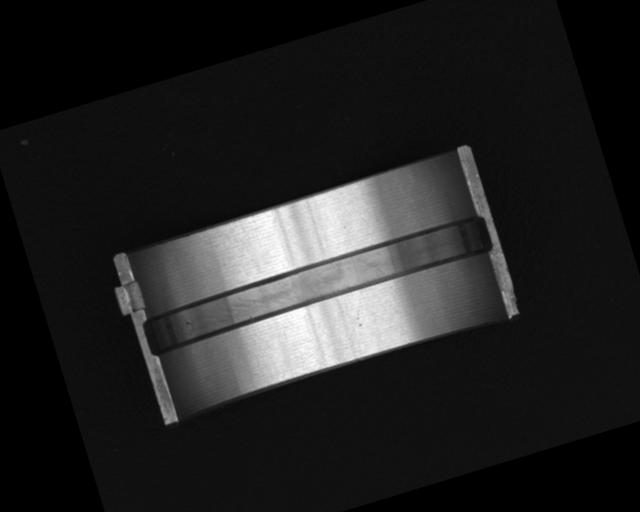gap: (136, 212, 497, 357)
